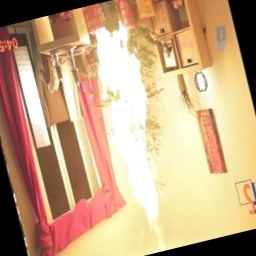fire: (70, 12, 204, 256)
